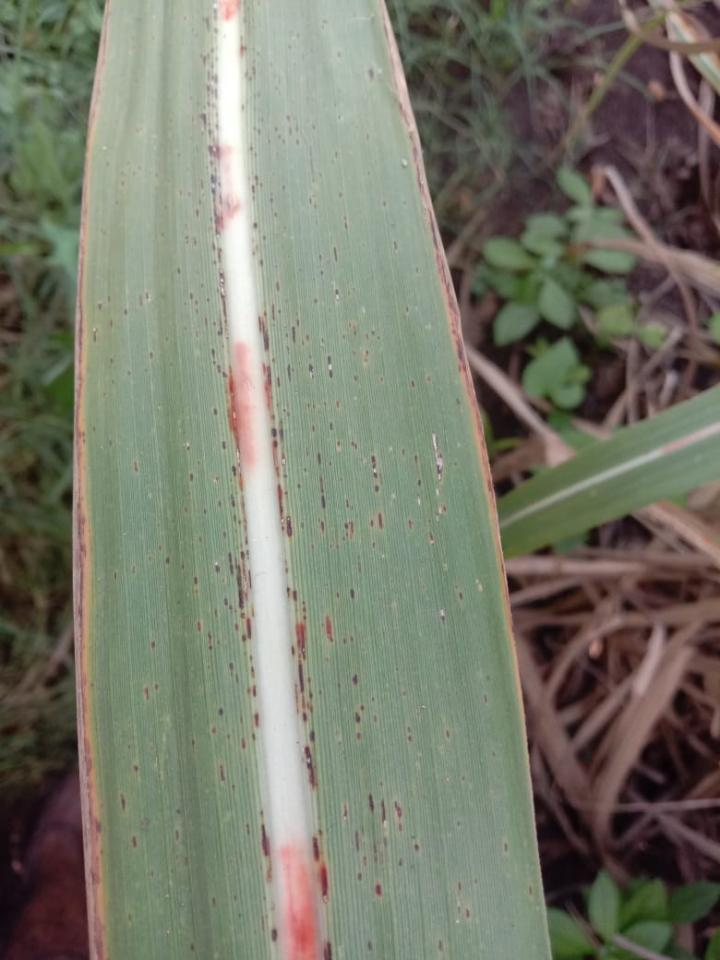RedRot: (277, 842, 318, 959), (233, 341, 257, 473), (220, 192, 240, 233), (261, 361, 272, 415), (216, 0, 240, 21)
Rust: (206, 402, 263, 753), (309, 434, 454, 560), (238, 48, 306, 270), (257, 297, 341, 390), (182, 238, 231, 385), (196, 45, 223, 240), (270, 412, 295, 540), (294, 598, 307, 725), (262, 824, 273, 883), (303, 746, 316, 792), (319, 862, 329, 902), (392, 800, 403, 835), (285, 584, 300, 603), (380, 798, 389, 829), (311, 836, 321, 863), (325, 614, 333, 645), (218, 762, 228, 784), (353, 830, 361, 854), (323, 941, 333, 959), (119, 794, 127, 814), (130, 835, 139, 851), (368, 794, 375, 814), (354, 710, 362, 727), (308, 729, 317, 743), (374, 883, 382, 898), (271, 929, 277, 944), (366, 940, 373, 952), (356, 871, 363, 882), (352, 673, 358, 685), (354, 733, 362, 741)
